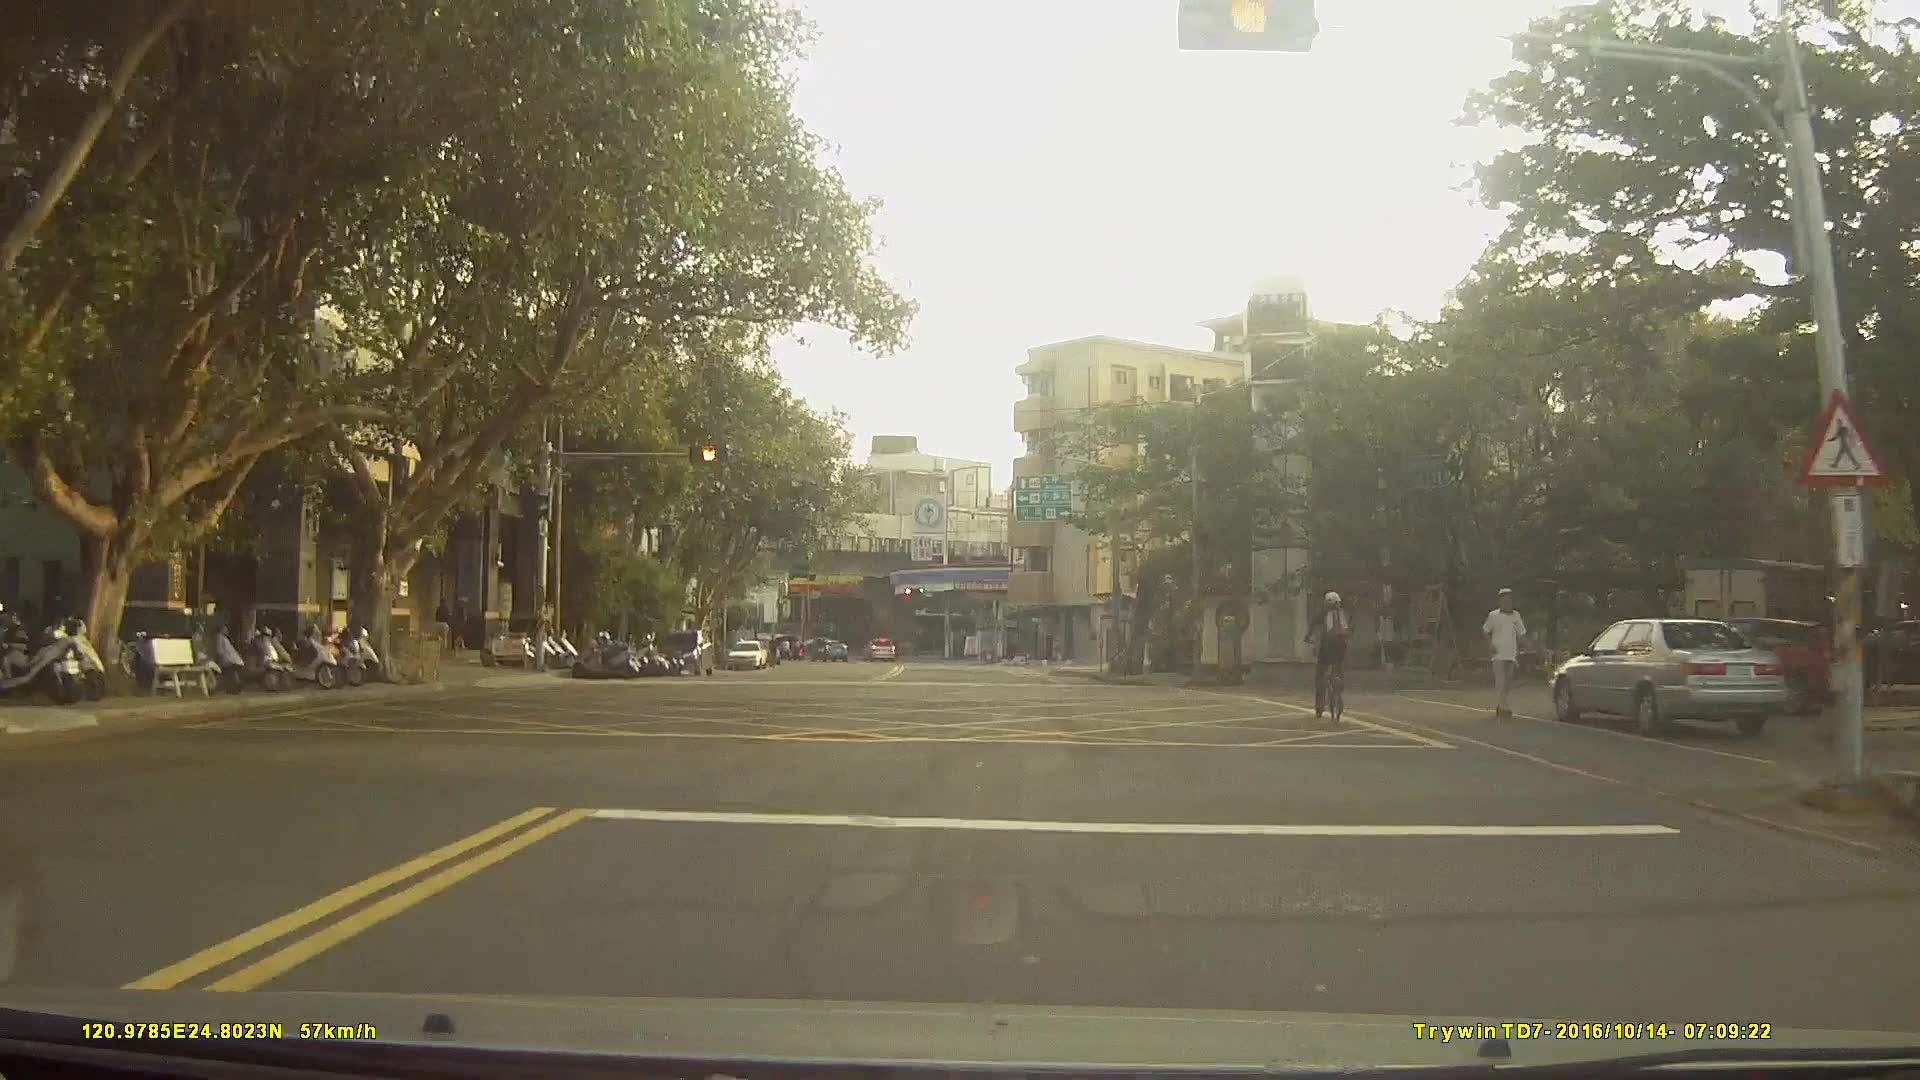pedestrian: (1473, 583, 1537, 727), (431, 598, 456, 655)
rider: (1302, 591, 1355, 726)
vehicle: (1549, 615, 1789, 737), (655, 626, 714, 675), (727, 638, 766, 670), (808, 638, 848, 661), (861, 635, 896, 661)
